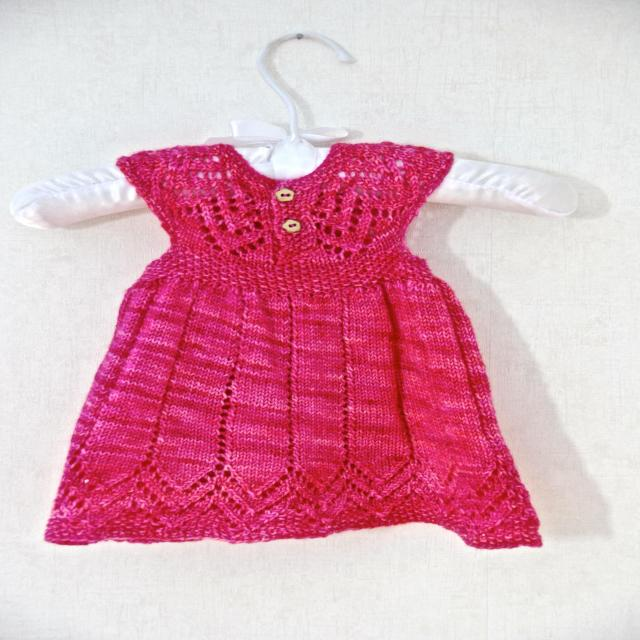Dress: (40, 131, 573, 559)
